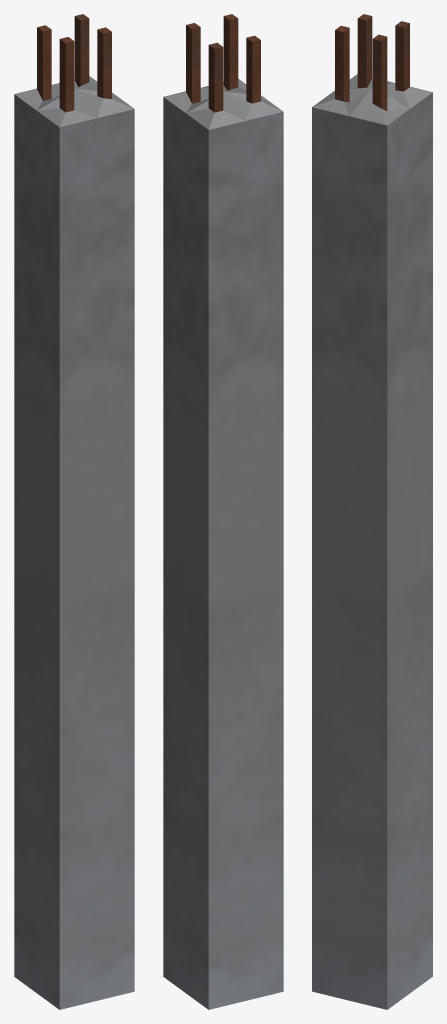
Rendered from Concrete_Pillar_03.fbx.
3 renders of one model, left to right at view 1: azimuth 30°, elevation 25°; view 2: azimuth 210°, elevation 25°; view 3: azimuth 330°, elevation 25°, orthographic.
Parts seen in each view (by area): view 1: Concrete_Pillar_03; view 2: Concrete_Pillar_03; view 3: Concrete_Pillar_03.
Part boxes in pixels (x1,y1,x2,y2): Concrete_Pillar_03: (14,14,134,1009); Concrete_Pillar_03: (163,14,283,1009); Concrete_Pillar_03: (312,14,432,1009).
Bounding box in the file's own units: 25.95 × 316 × 27.17.
